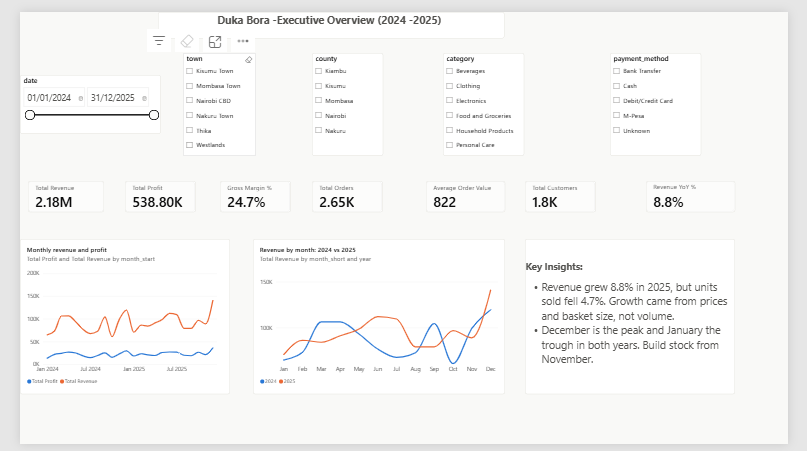

The dashboard page shown, as its layout file describes it:
{"tool":"powerbi","page":{"name":"Executive Overview","canvas":[1920,1080],"ordinal":0},"visuals":[{"type":"textbox","box":[346,0,866,66],"z":0},{"type":"slicer","fields":{"Values":["dim_date.date"]},"box":[0,158.3,351.7,146.7],"z":1000},{"type":"slicer","fields":{"Values":["dim_store.town"]},"box":[408.3,103.3,181.7,256.7],"z":2000},{"type":"slicer","fields":{"Values":["dim_store.county"]},"box":[730,102.5,178.3,256.7],"z":3000},{"type":"slicer","fields":{"Values":["dim_product.category"]},"box":[1057.5,102.5,203.3,256.7],"z":4000},{"type":"slicer","fields":{"Values":["fact_sales.payment_method"]},"box":[1475,102.5,228.3,256.7],"z":5000},{"type":"cardVisual","fields":{"Data":["_Measures.Total Revenue"]},"box":[20,422,190,78.3],"z":6000},{"type":"cardVisual","fields":{"Data":["_Measures.Total Customers"]},"box":[1262,422,176.7,78.3],"z":7000},{"type":"cardVisual","fields":{"Data":["_Measures.Total Orders"]},"box":[730,422,176.7,78.3],"z":8000},{"type":"cardVisual","fields":{"Data":["_Measures.Gross Margin %"]},"box":[500,422,176.7,78.3],"z":9000},{"type":"cardVisual","fields":{"Data":["_Measures.Total Profit"]},"box":[262,422,176.7,78.3],"z":10000},{"type":"cardVisual","fields":{"Data":["_Measures.Average Order Value"]},"box":[1014,422,198,78],"z":11000},{"type":"lineChart","title":"Monthly revenue and profit","fields":{"Category":["dim_date.month_start"],"Y":["_Measures.Total Profit","_Measures.Total Revenue"]},"box":[0,568,525,387.5],"z":12000},{"type":"lineChart","title":"Revenue by month: 2024 vs 2025","fields":{"Category":["dim_date.month_short"],"Series":["dim_date.year"],"Y":["_Measures.Total Revenue"]},"box":[582,568,630,387.5],"z":13000},{"type":"cardVisual","fields":{"Data":["_Measures.Revenue YoY %"]},"box":[1564,422,222.5,77.5],"z":14000},{"type":"textbox","box":[1262.5,567.5,525,387.5],"z":15000}]}

Visuals, with their boxes on the page's 1920x1080 design canvas (x1, y1, x2, y2). These are canvas units, not pixel positions in the 807x451 screenshot, which may show the page scaled, cropped or inside an application window:
textbox: <region>346, 0, 1212, 66</region>
slicer - dim_date.date: <region>0, 158, 352, 305</region>
slicer - dim_store.town: <region>408, 103, 590, 360</region>
slicer - dim_store.county: <region>730, 102, 908, 359</region>
slicer - dim_product.category: <region>1058, 102, 1261, 359</region>
slicer - fact_sales.payment_method: <region>1475, 102, 1703, 359</region>
cardVisual - _Measures.Total Revenue: <region>20, 422, 210, 500</region>
cardVisual - _Measures.Total Customers: <region>1262, 422, 1439, 500</region>
cardVisual - _Measures.Total Orders: <region>730, 422, 907, 500</region>
cardVisual - _Measures.Gross Margin %: <region>500, 422, 677, 500</region>
cardVisual - _Measures.Total Profit: <region>262, 422, 439, 500</region>
cardVisual - _Measures.Average Order Value: <region>1014, 422, 1212, 500</region>
"Monthly revenue and profit" lineChart: <region>0, 568, 525, 956</region>
"Revenue by month: 2024 vs 2025" lineChart: <region>582, 568, 1212, 956</region>
cardVisual - _Measures.Revenue YoY %: <region>1564, 422, 1786, 500</region>
textbox: <region>1262, 568, 1788, 955</region>
